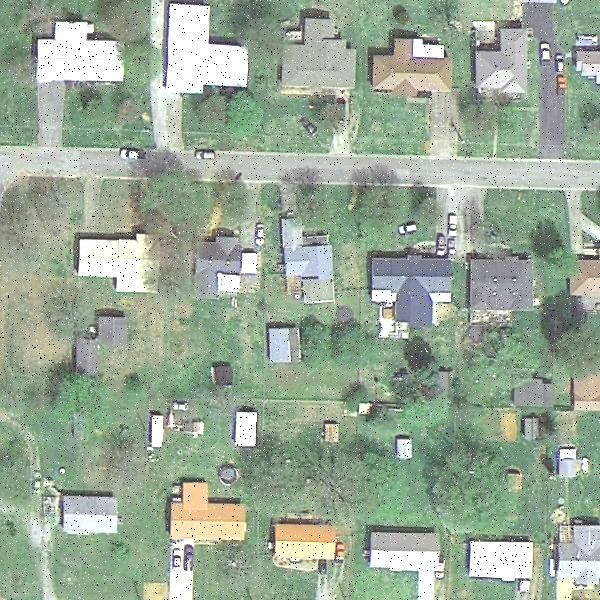Buildings: (162, 0, 244, 89), (34, 17, 130, 82), (284, 19, 358, 94), (374, 40, 450, 102), (170, 485, 250, 535), (477, 24, 530, 99), (360, 525, 437, 574), (285, 234, 331, 313), (468, 256, 536, 308), (200, 232, 251, 298), (78, 240, 154, 280), (550, 528, 600, 585), (374, 259, 452, 293), (274, 525, 338, 563), (468, 544, 532, 579), (57, 502, 120, 532), (571, 265, 600, 303), (98, 318, 130, 343)
